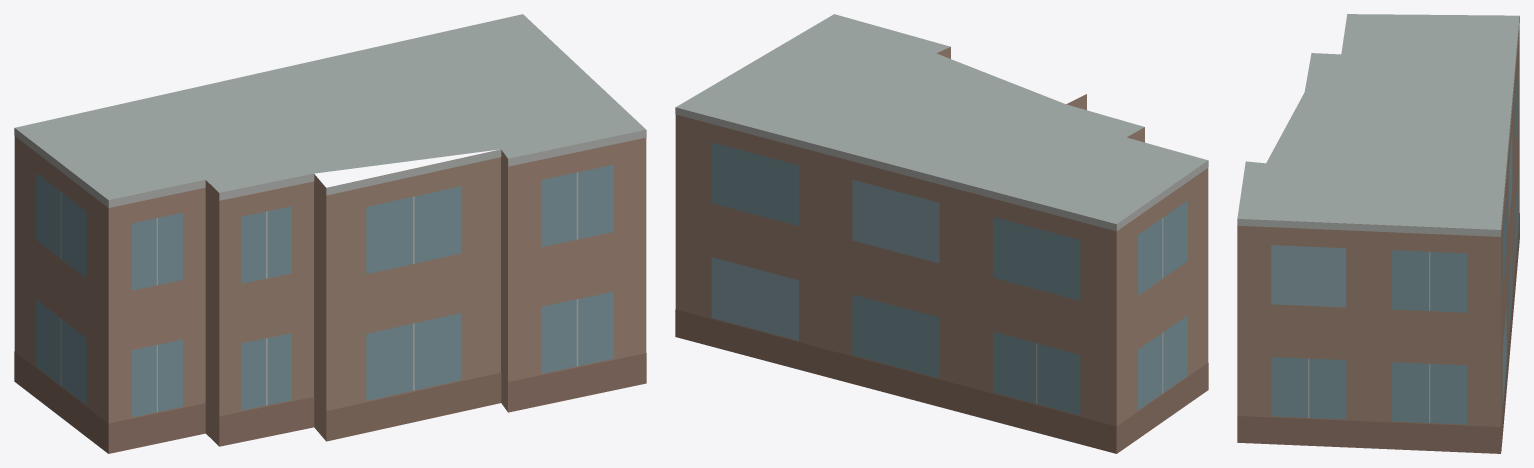
Rendered from survey-upis-32499415.glb.
3 views of the same model, side by side, from view 1: azimuth 30°, elevation 25°; view 2: azimuth 150°, elevation 25°; view 3: azimuth 270°, elevation 25° (orthographic). The views are drawn at different scales.
Parts seen in each view (by area): view 1: survey-upis-32499415.tmp; view 2: survey-upis-32499415.tmp; view 3: survey-upis-32499415.tmp.
Boxes of the visible parts, box(x1,y1,x2,y2) form: survey-upis-32499415.tmp: box(14, 14, 646, 453); survey-upis-32499415.tmp: box(675, 14, 1208, 453); survey-upis-32499415.tmp: box(1237, 14, 1519, 453).
Bounding box in the file's own units: 16.36 × 7.9 × 9.04.
